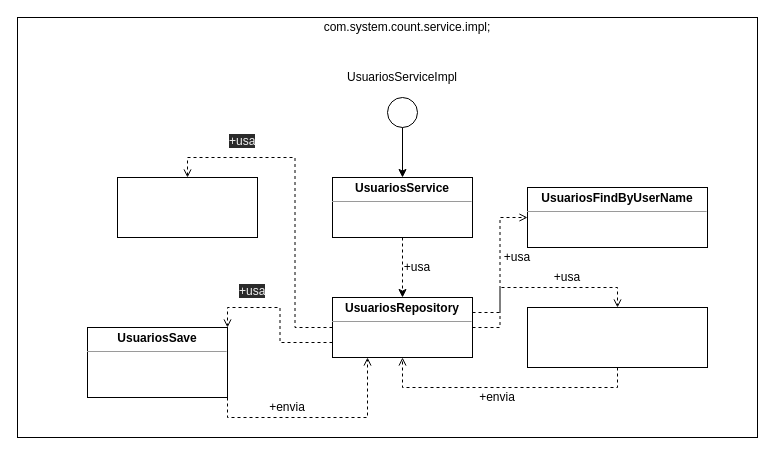
The diagram is 775 pixels wide and 455 high, and some of its shapes have lost their labels. The box of each missing label's shape, as (x1, y1, x2, y2) in pixels:
UsuariosDelete: (526, 306, 708, 368)
UsuariosFindAll: (116, 176, 258, 238)
